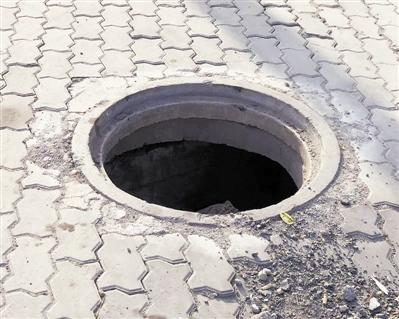lose: (57, 71, 349, 232)
